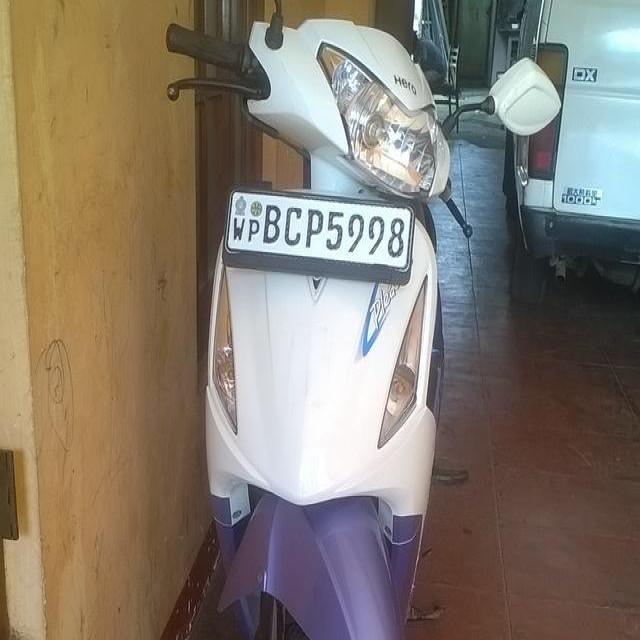license-plate: (230, 192, 408, 265)
